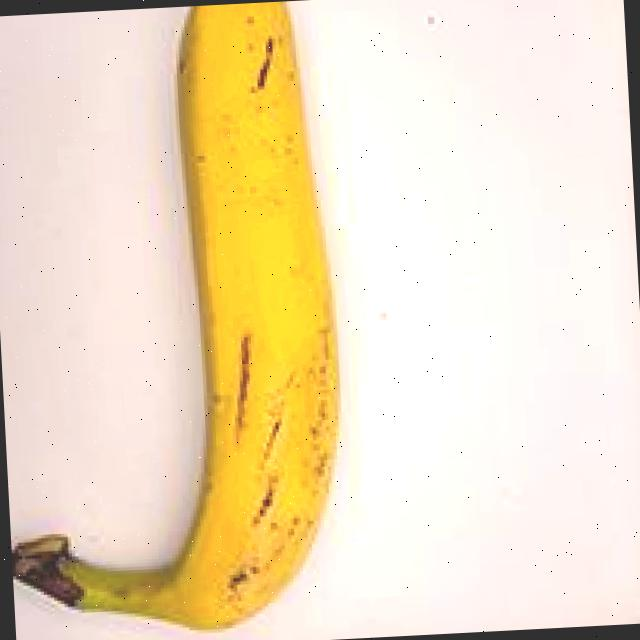Ripe: (0, 0, 406, 640)
